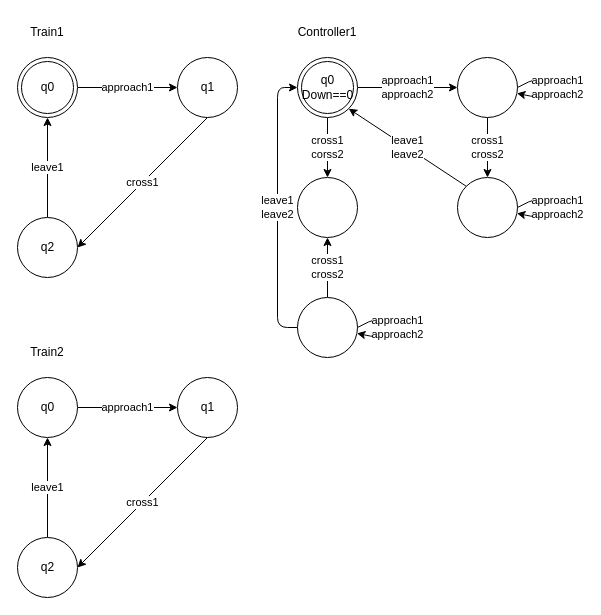
This 601x615 diagram has some shape labels left out. Each missing label, with the centre of its shape:
"q0 Down==1" belongs at pixel 487 87.
"q1 Down==0 Bad==1" belongs at pixel 327 207.
"q2 Down==0" belongs at pixel 327 327.
"q2 Down==1" belongs at pixel 487 207.
